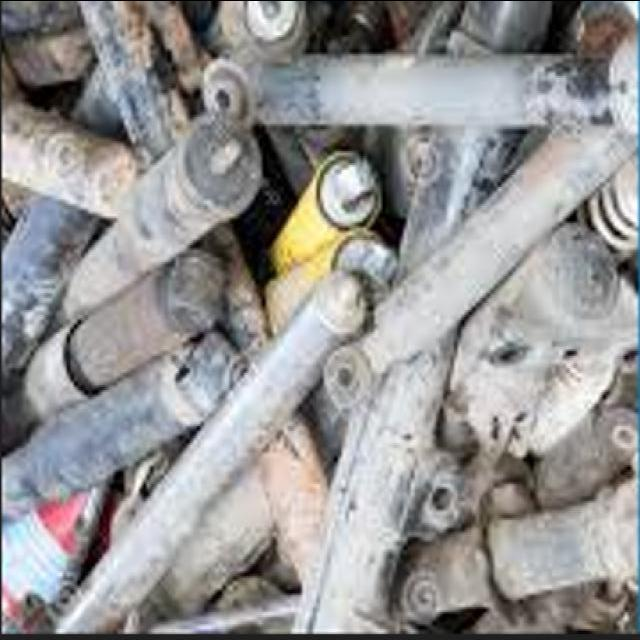shock absorber: (54, 271, 366, 633), (323, 123, 637, 409)
